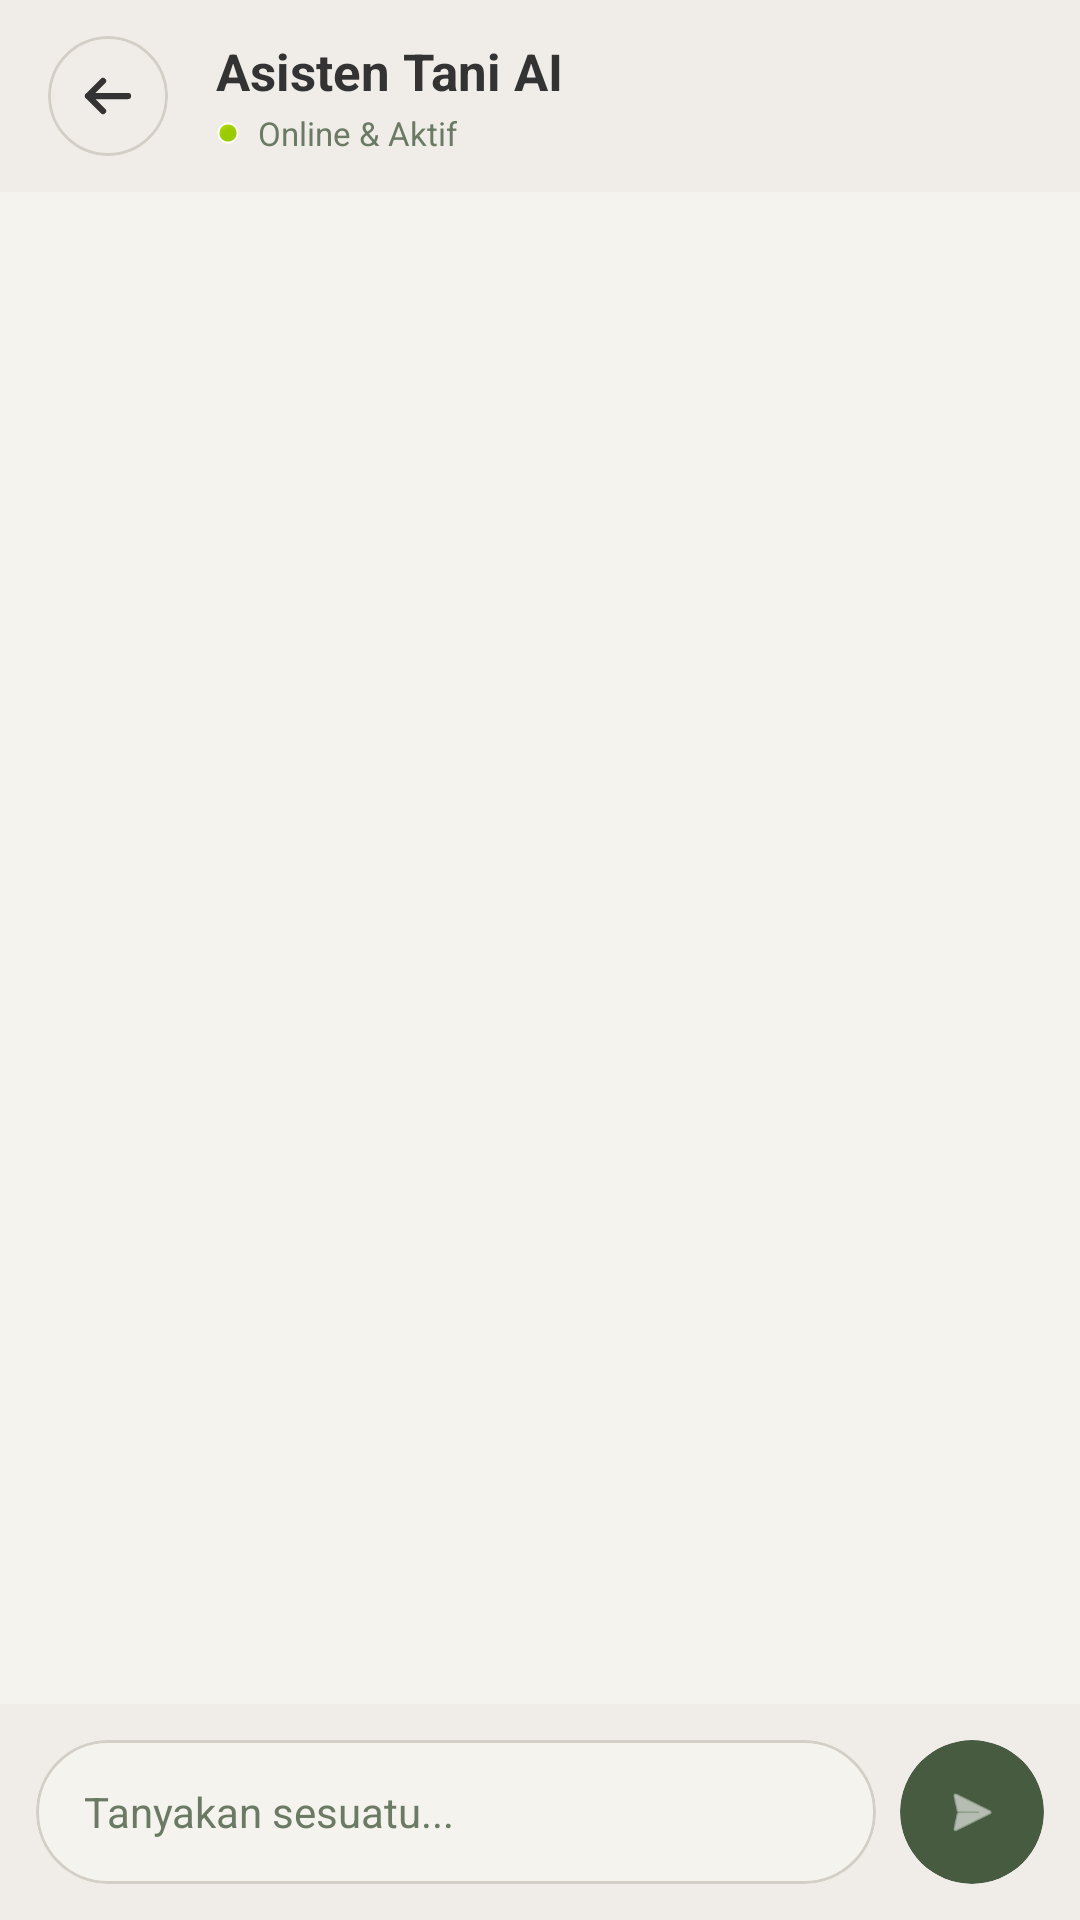

Screen size 1080w x 1920h. Icon name, then its center in pixels as [x,y]:
back arrow: [107,96]
send: [972,1812]
